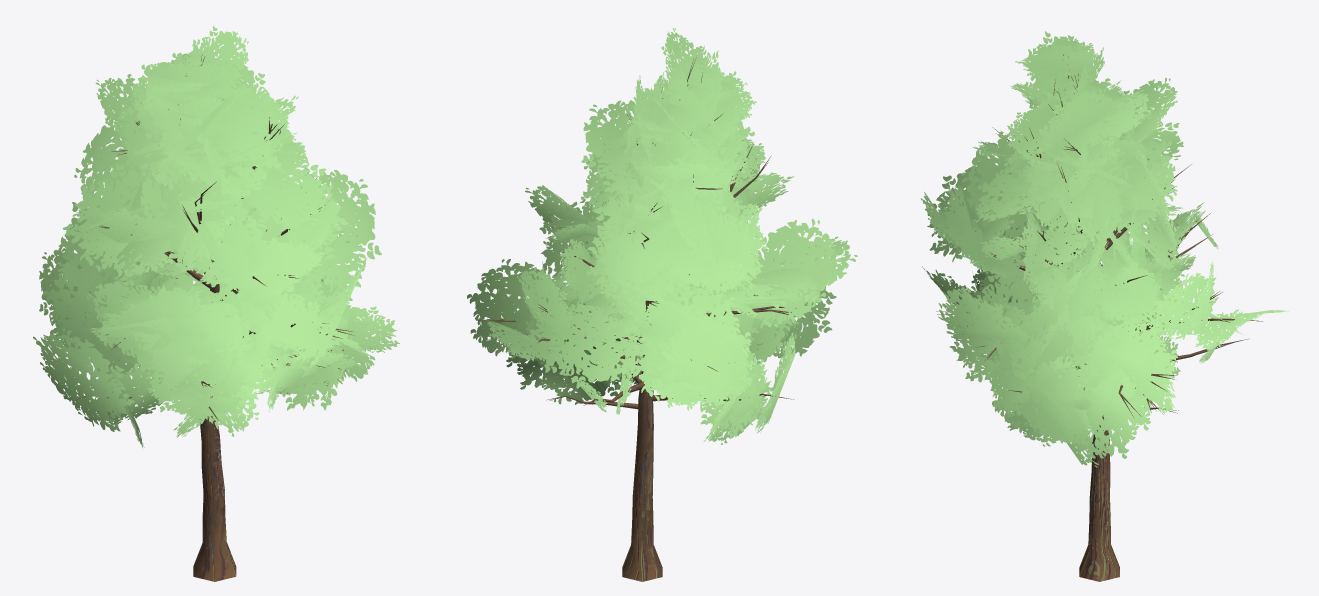
The model's file is SM_TreeBroadleaf_01.fbx.
The picture shows the model from 3 angles, left to right: view 1: azimuth 30°, elevation 25°; view 2: azimuth 150°, elevation 25°; view 3: azimuth 270°, elevation 25°; orthographic projection. The views are drawn at different scales.
Parts seen in each view (by area): view 1: Tree_01_Leaves, Tree_01_Bark; view 2: Tree_01_Leaves, Tree_01_Bark; view 3: Tree_01_Leaves, Tree_01_Bark.
Boxes of the visible parts, x1,y1,x2,y2 form: Tree_01_Leaves: (33, 25, 399, 447); Tree_01_Bark: (73, 55, 369, 581); Tree_01_Leaves: (467, 28, 857, 444); Tree_01_Bark: (476, 54, 801, 581); Tree_01_Leaves: (920, 31, 1288, 467); Tree_01_Bark: (932, 54, 1262, 581).
Size of the model in its own units: 691 by 1001 by 679.
